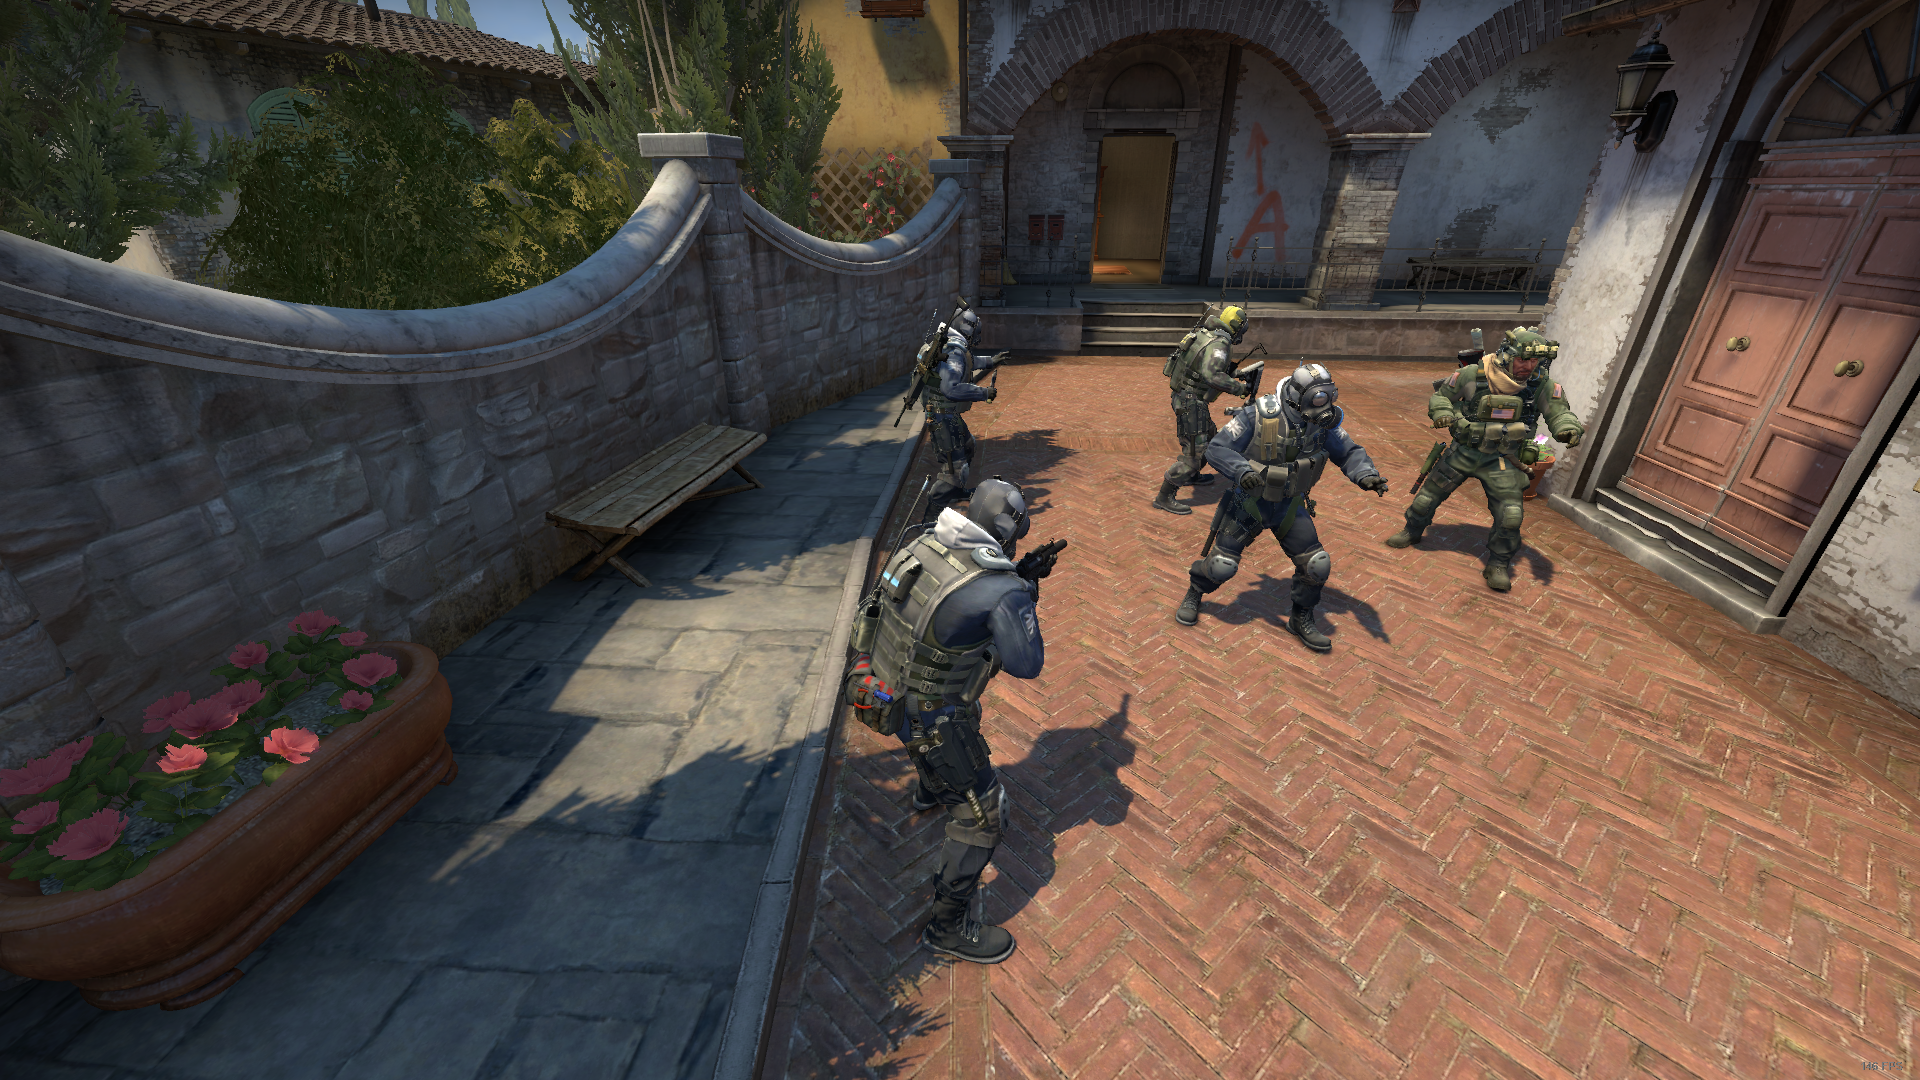ct: (851, 477, 1048, 963), (1183, 363, 1389, 655), (1151, 306, 1261, 513), (919, 305, 1010, 469)
